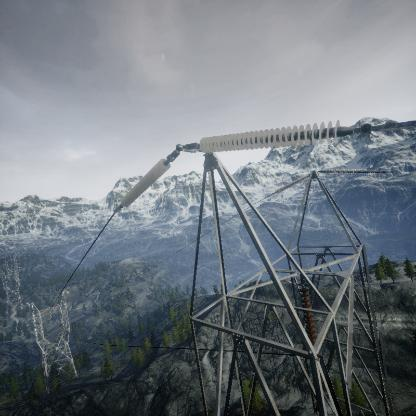insulator: (193, 117, 359, 154), (116, 155, 174, 212), (299, 284, 320, 350), (274, 172, 312, 194), (318, 165, 369, 177)
